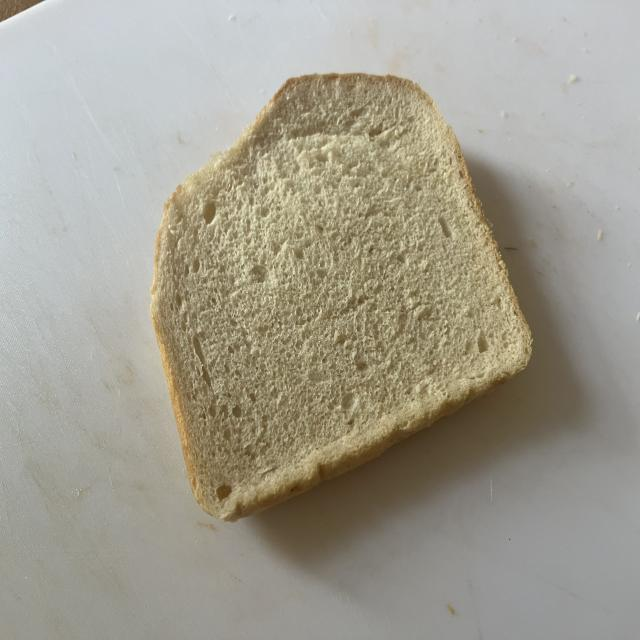sliced_bread: (151, 74, 531, 520), (398, 216, 402, 217)
